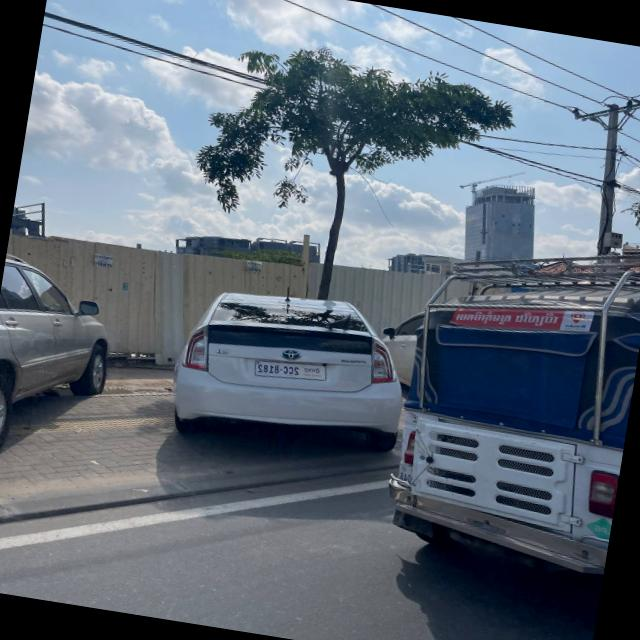1: (453, 309, 563, 327)
631: (292, 366, 301, 377)
846: (256, 363, 281, 375)
Yolov11kh: (303, 366, 321, 375)
